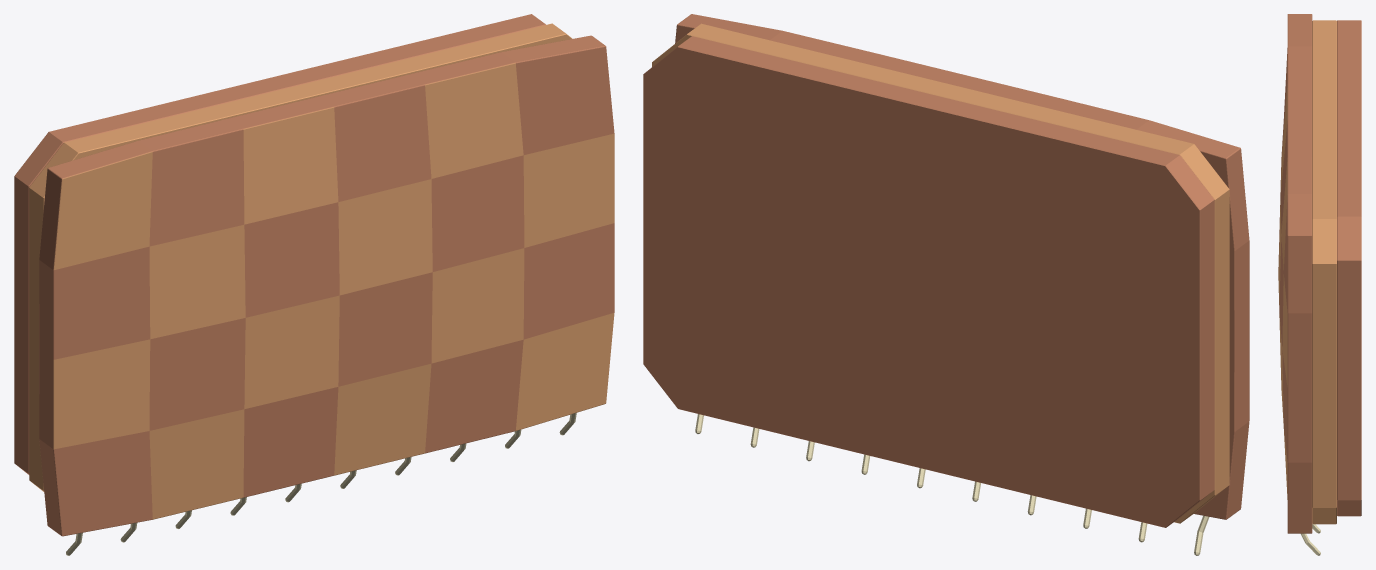
The model's file is blanket.glb.
3 renders of one model, left to right at view 1: azimuth 30°, elevation 25°; view 2: azimuth 150°, elevation 25°; view 3: azimuth 270°, elevation 25°, orthographic. The views are drawn at different scales.
Visible parts, largest first — view 1: blanket; view 2: blanket; view 3: blanket.
Boxes of the visible parts, left/top/right/bottom form: blanket: left=14, top=14, right=614, bottom=555; blanket: left=643, top=14, right=1249, bottom=555; blanket: left=1278, top=14, right=1361, bottom=555.
Size of the model in its own units: 0.351 by 0.2407 by 0.054.
